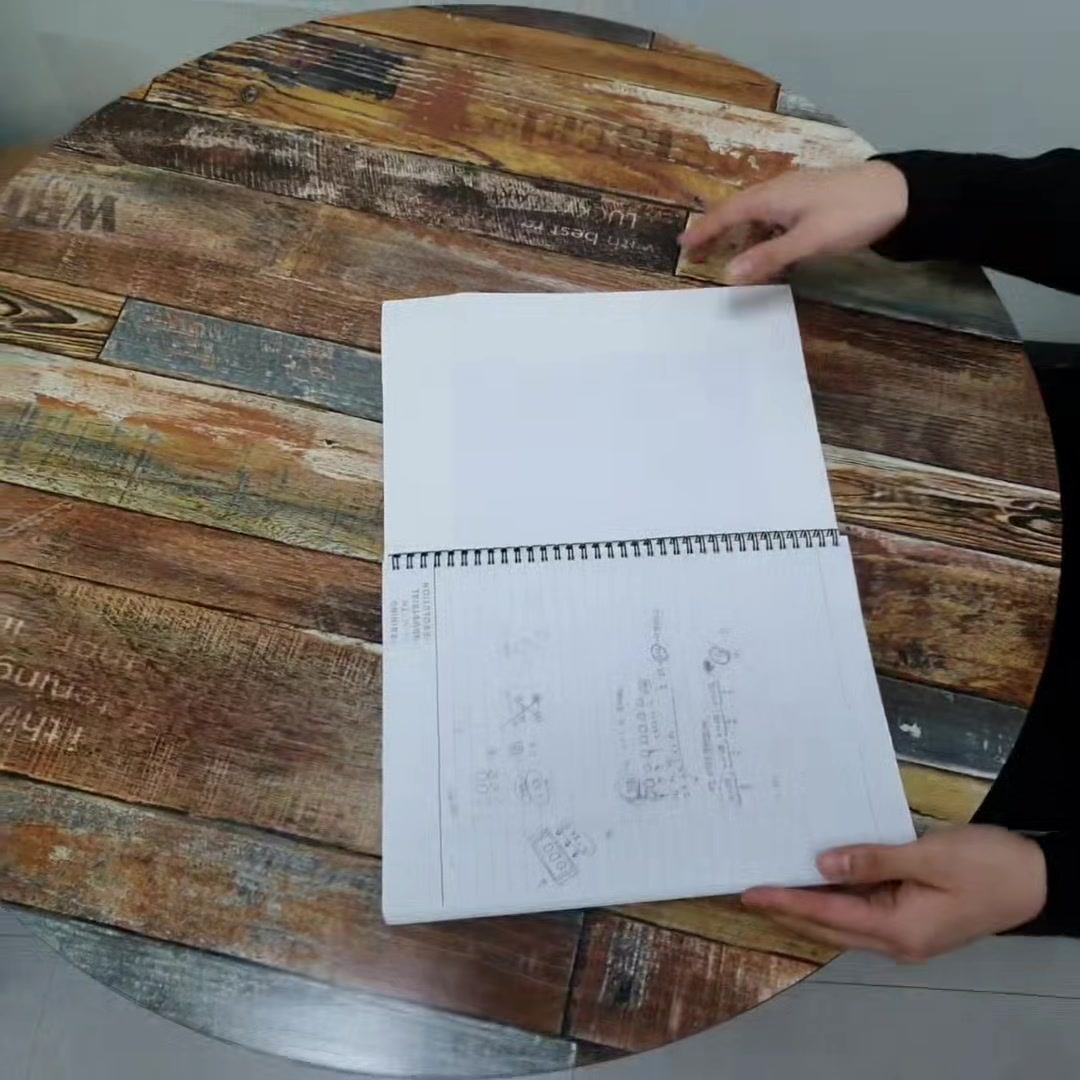book: (370, 275, 916, 910)
